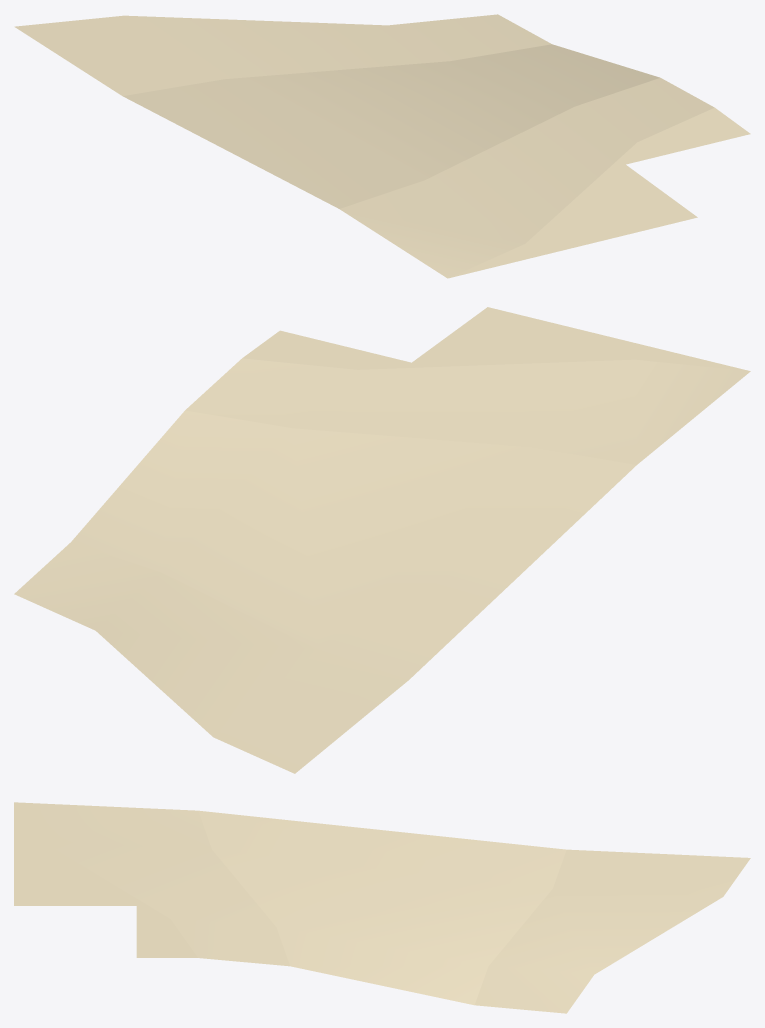
Rendered from Beach_Terrain_Sand_Transition_Gentle_Sharp_Centered.glb.
The picture shows the model from 3 angles, top to bottom: view 1: azimuth 30°, elevation 25°; view 2: azimuth 150°, elevation 25°; view 3: azimuth 270°, elevation 25°; orthographic projection. The views are drawn at different scales.
Parts seen in each view (by area): view 1: Beach_Terrain_Sand_Transition_Gentle_Sharp_Centered; view 2: Beach_Terrain_Sand_Transition_Gentle_Sharp_Centered; view 3: Beach_Terrain_Sand_Transition_Gentle_Sharp_Centered.
Part boxes in pixels (x1,y1,x2,y2): Beach_Terrain_Sand_Transition_Gentle_Sharp_Centered: (14,14,750,278); Beach_Terrain_Sand_Transition_Gentle_Sharp_Centered: (14,307,750,773); Beach_Terrain_Sand_Transition_Gentle_Sharp_Centered: (14,802,750,1013).
Bounding box in the file's own units: 3 × 0.5 × 6.
